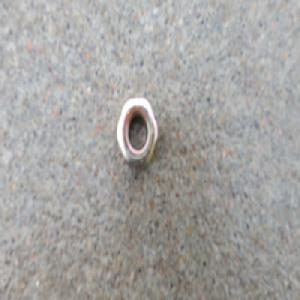Nut: (115, 93, 158, 169)
